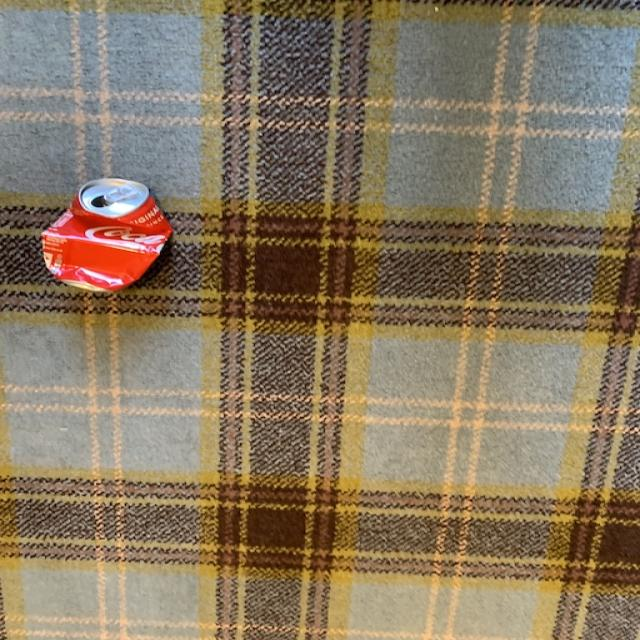litter: (33, 170, 188, 302)
